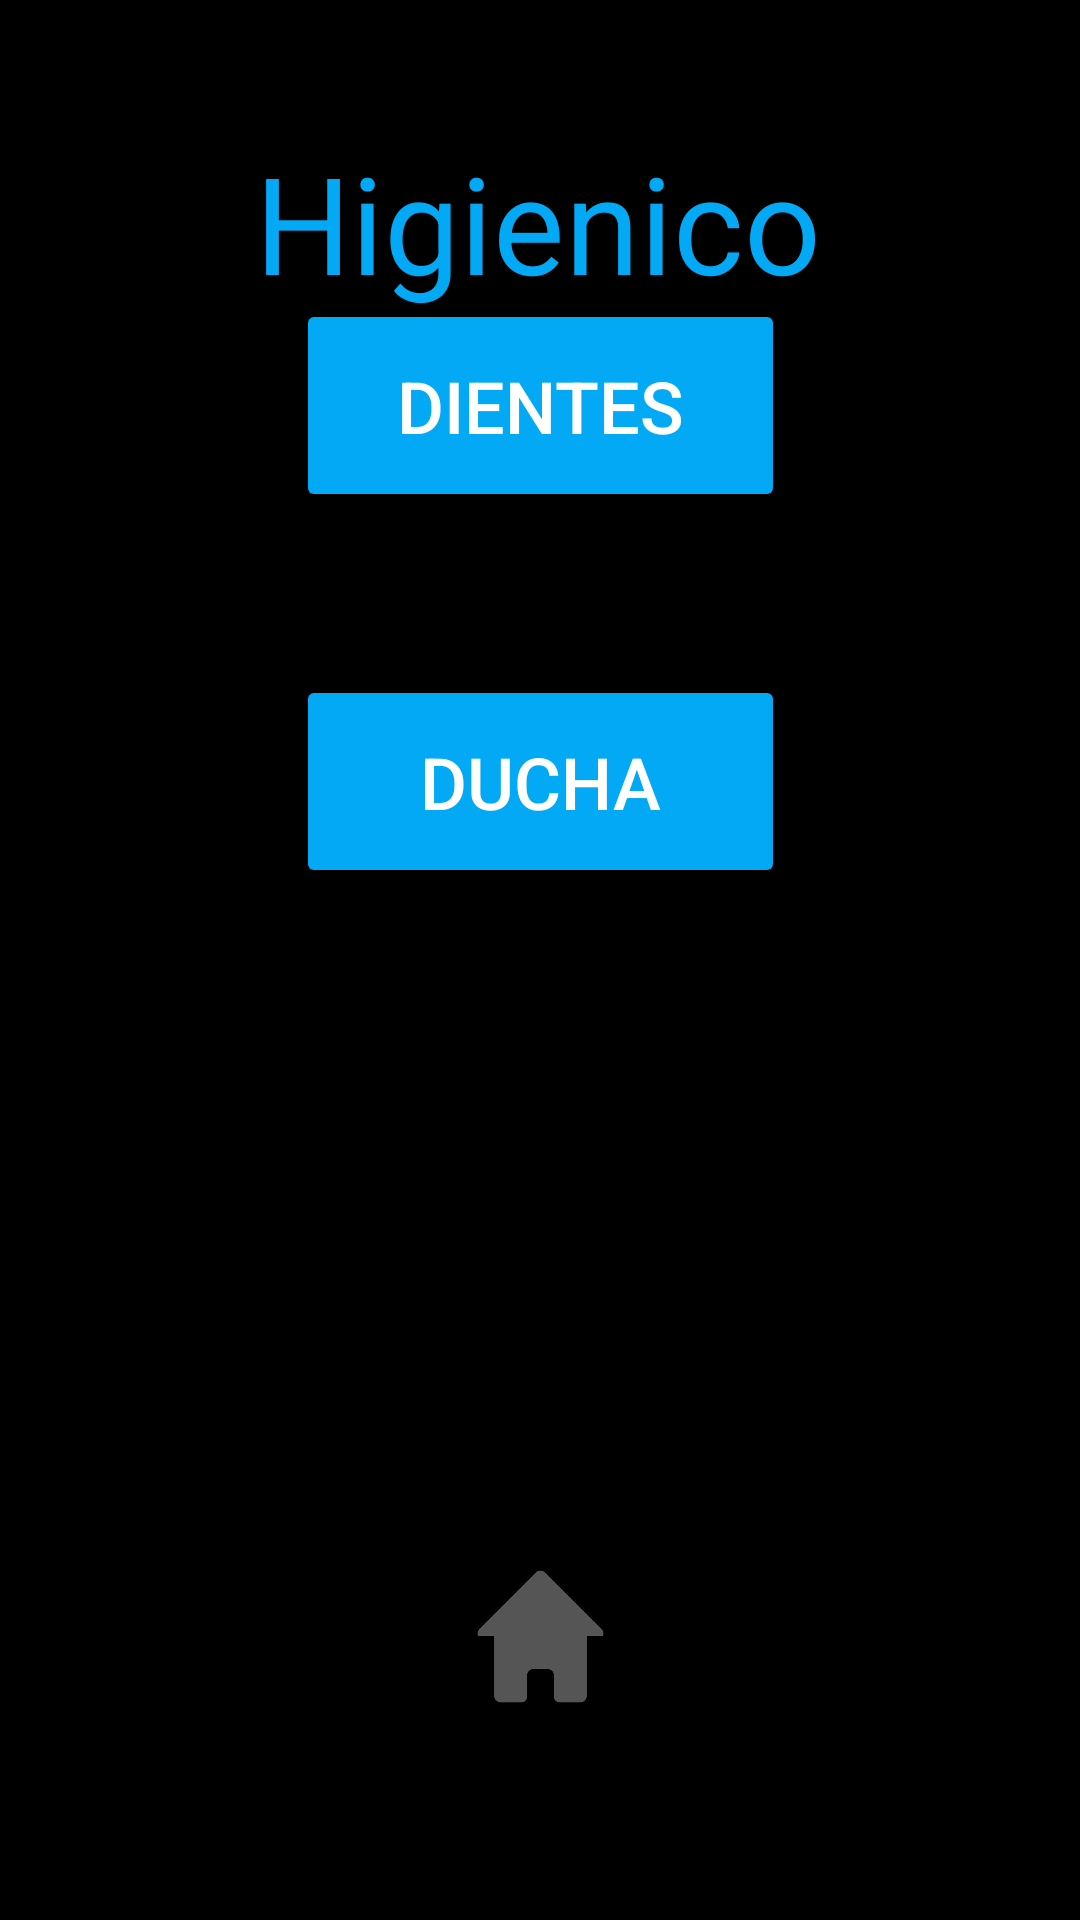

Where icons sit on this 1080px x 1920px app screen, as Rect(x1, y1, x2, y2):
casa: Rect(477, 1570, 604, 1703)
